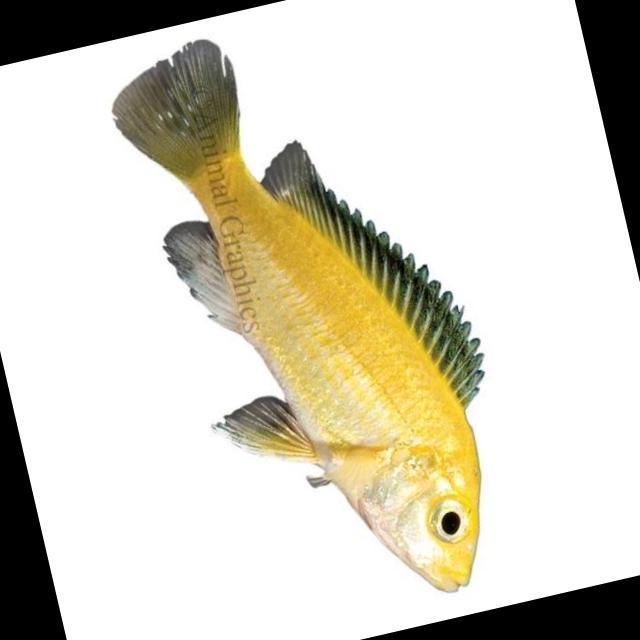YellowCichlid: (60, 0, 545, 640)
